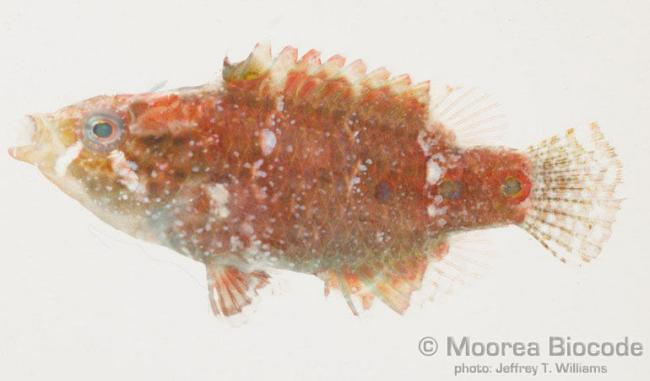fish: (9, 41, 625, 319)
